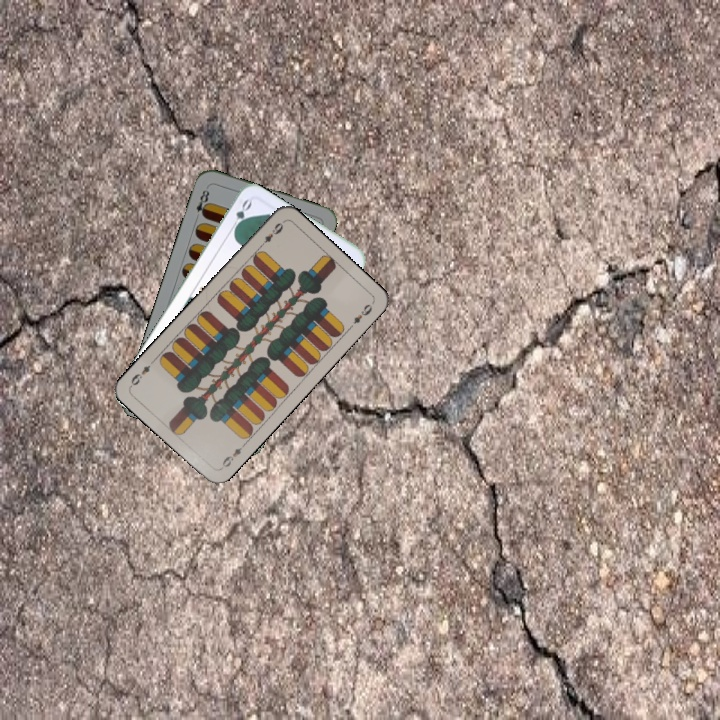E8: (192, 183, 212, 220)
E9: (217, 439, 248, 472), (255, 219, 286, 251)
GO: (226, 195, 254, 235)
